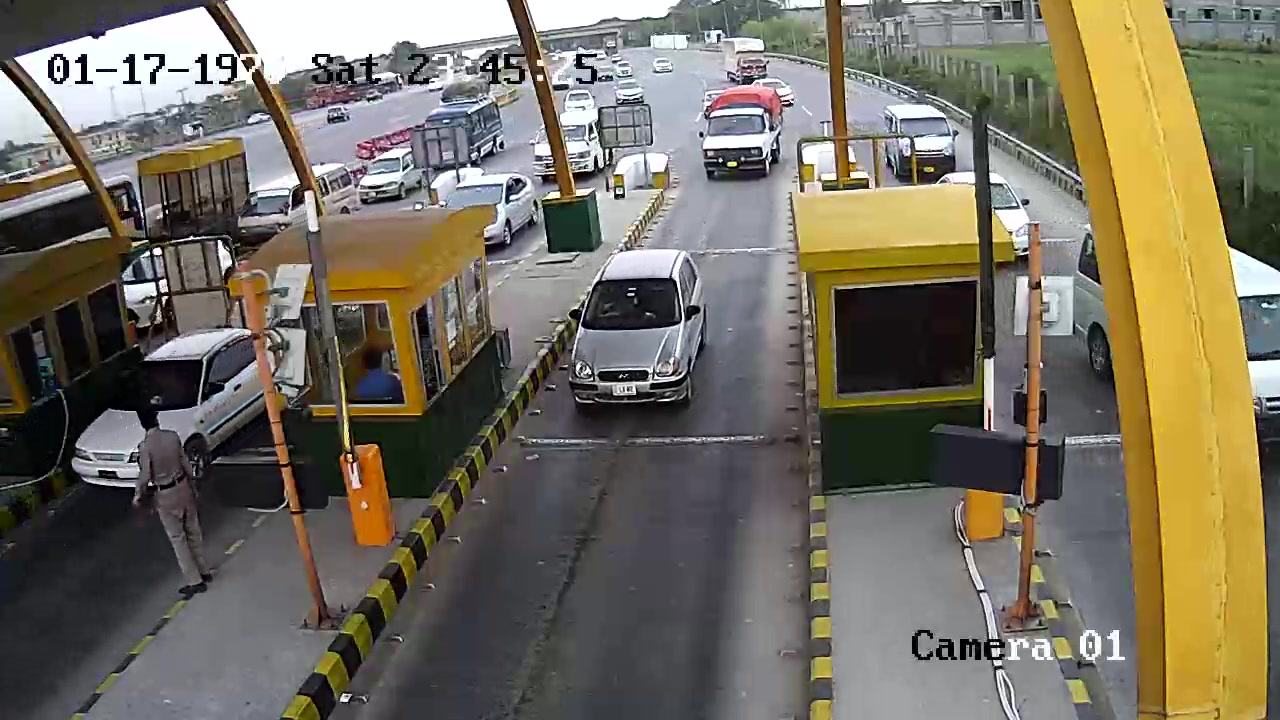F1: (564, 240, 713, 425)
